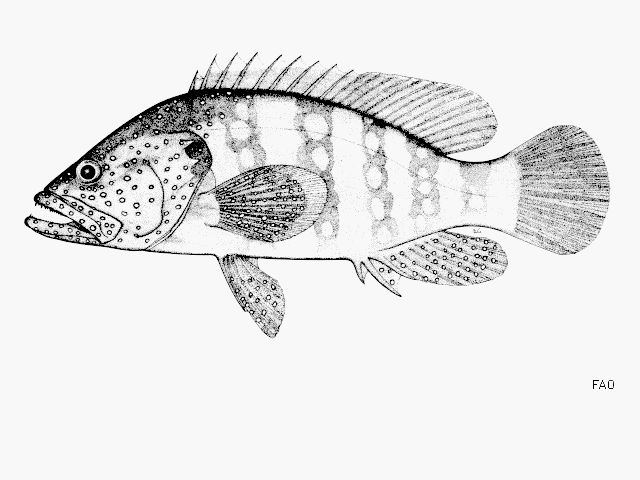fish: (24, 52, 613, 337)
